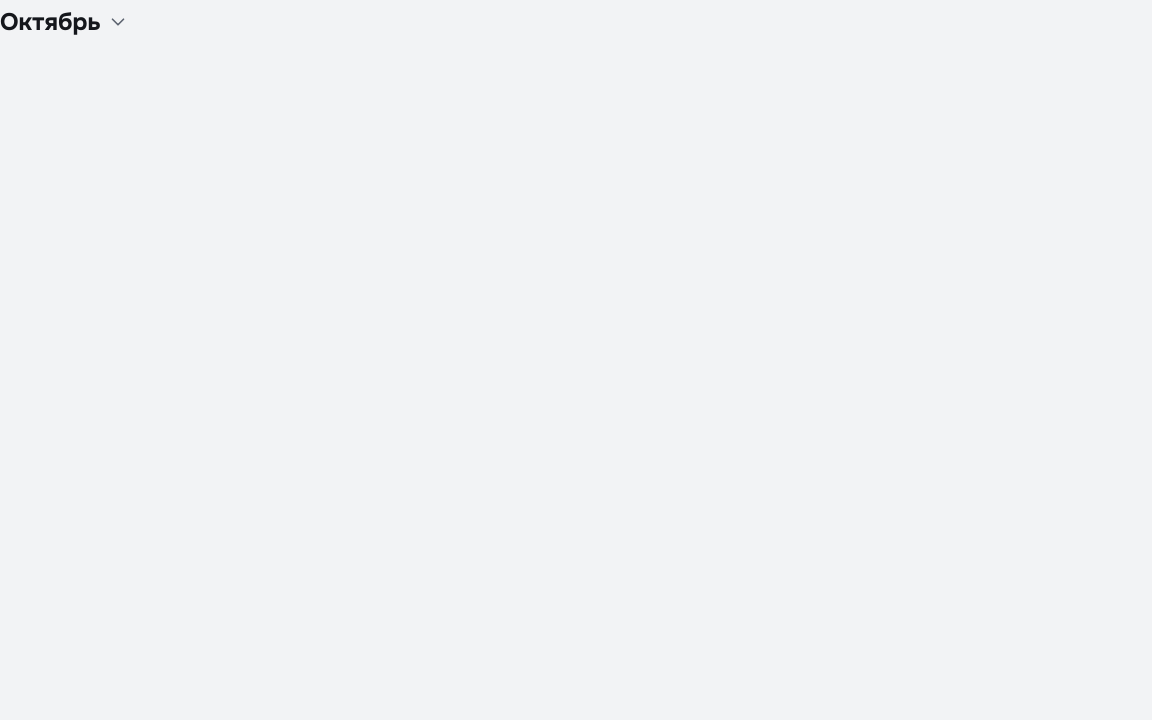
PeriodPicker title trigger › opens the same sheet, reports the chosen month and returns focus to the title
The image size is (1152, 720).
What coordinates should you click on to do the following:
click the button with aria-label "Период:"
I would click on:
 (64, 22)
Its box is [0,0,128,44].
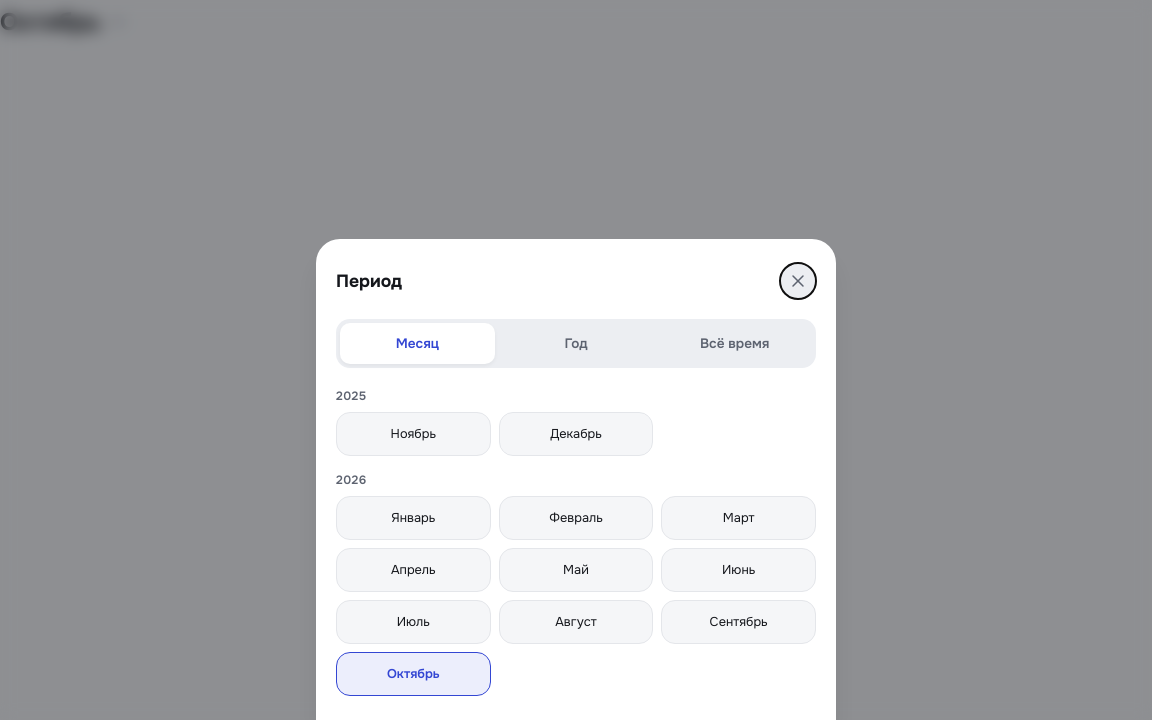
What coordinates should you click on to do the following:
click the button "Сентябрь"
I would click on:
 (739, 622)
Its box is [661,600,816,644].
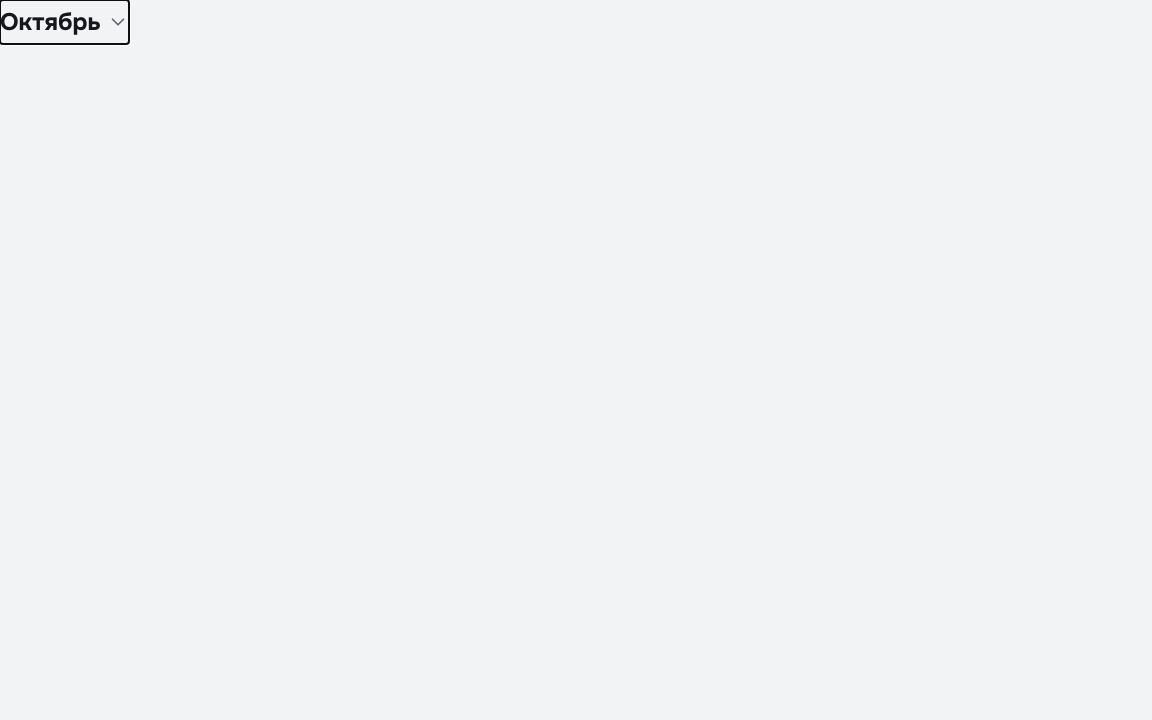
Expected: the dialog is gone
